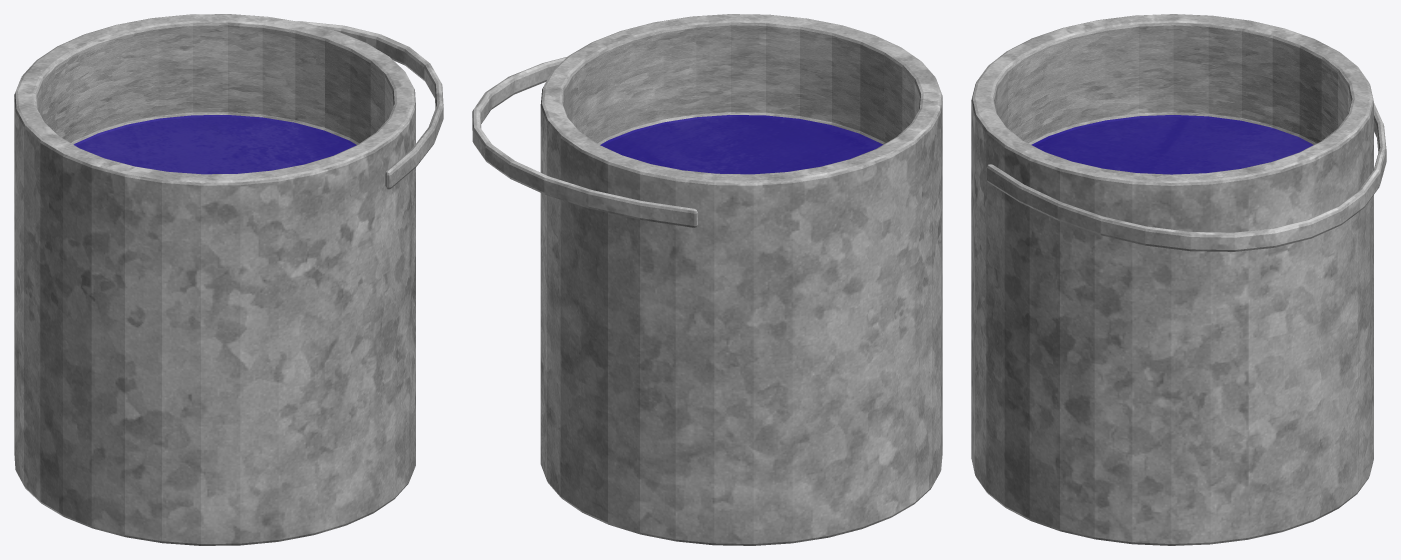
File: pot bleu.fbx
The picture shows the model from 3 angles, left to right: view 1: azimuth 30°, elevation 25°; view 2: azimuth 150°, elevation 25°; view 3: azimuth 270°, elevation 25°; orthographic projection.
Visible parts, largest first — view 1: pot 2; view 2: pot 2; view 3: pot 2.
Part boxes in pixels (box(x1,y1,x2,y2)): pot 2: box(14, 14, 443, 545); pot 2: box(472, 14, 942, 545); pot 2: box(971, 14, 1386, 545).
Bounding box in the file's own units: 62.34 × 54.23 × 55.94.
1 material, 1 textured.
